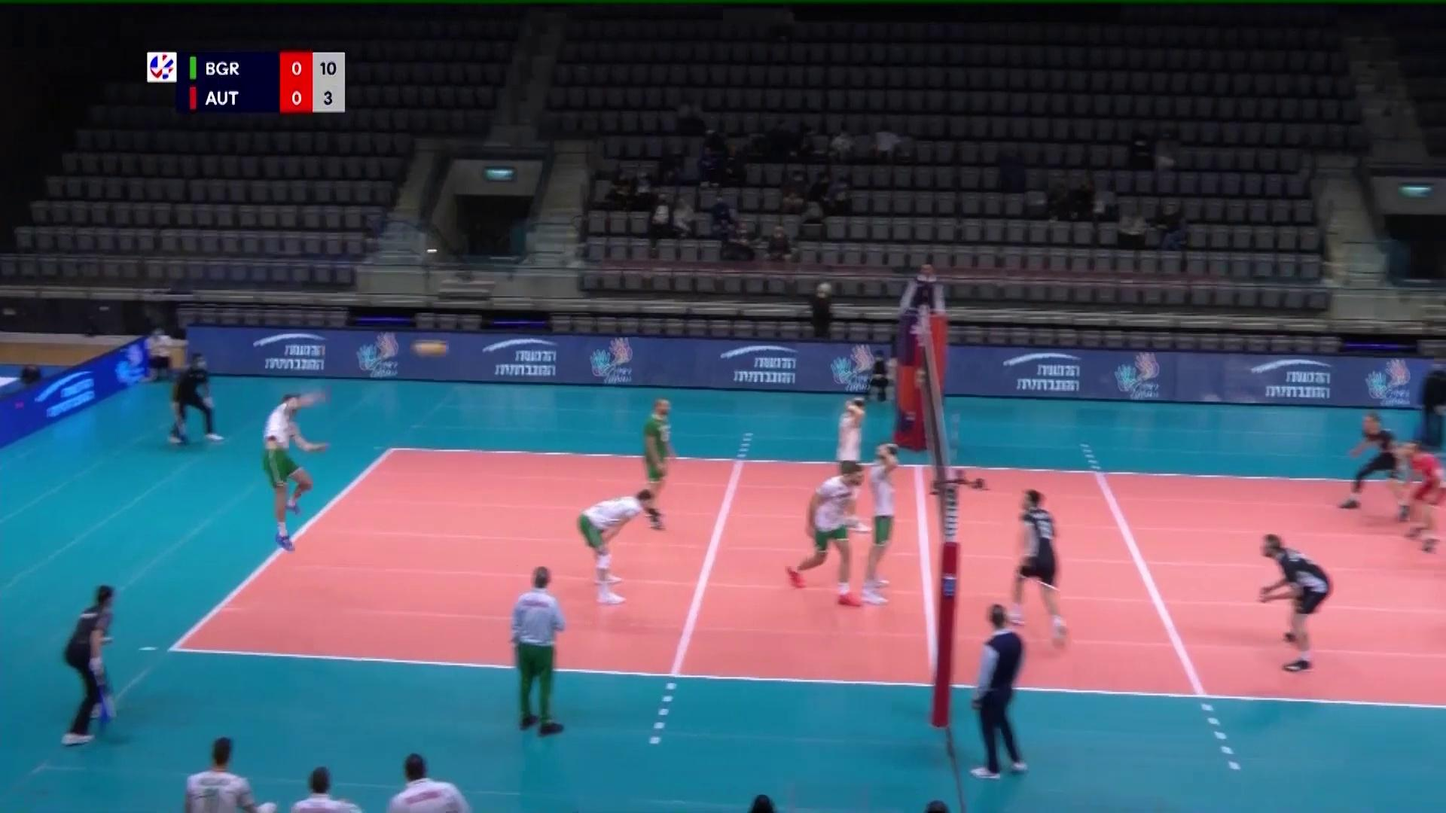ball: (412, 340, 447, 357)
